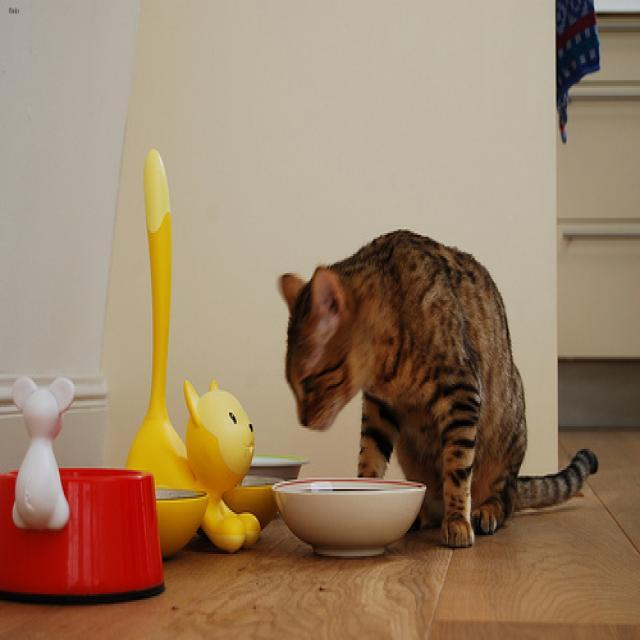Bengal: (280, 264, 365, 430)
